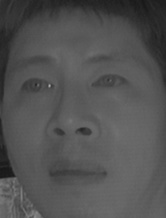eye: (89, 70, 130, 96), (16, 76, 54, 98)
mouth: (48, 154, 108, 191)
